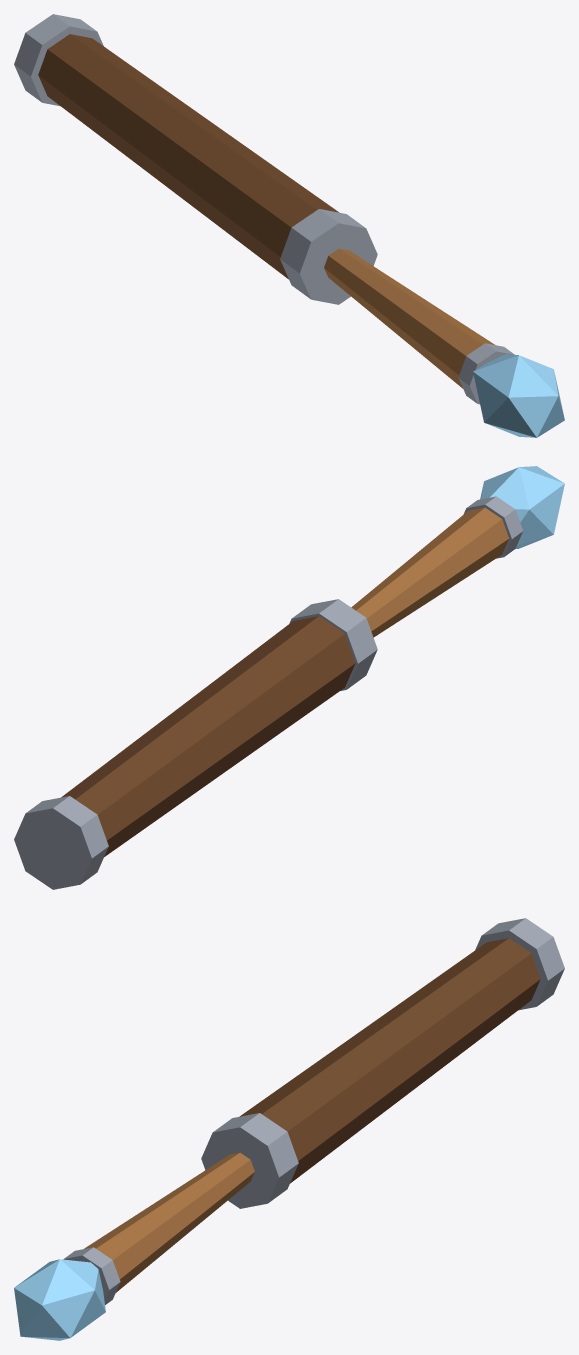
File: Wand.fbx
3 renders of one model, top to bottom at view 1: azimuth 30°, elevation 25°; view 2: azimuth 150°, elevation 25°; view 3: azimuth 330°, elevation 25°, orthographic.
Visible parts, largest first — view 1: Wand, Wand_Tip; view 2: Wand, Wand_Tip; view 3: Wand, Wand_Tip.
Boxes of the visible parts, x1,y1,x2,y2 form: Wand: (14,14,514,404); Wand_Tip: (473,354,564,437); Wand: (14,496,522,889); Wand_Tip: (480,466,564,548); Wand: (63,918,564,1304); Wand_Tip: (14,1259,105,1340).
Size of the model in its own units: 0.032 by 0.032 by 0.3514.
